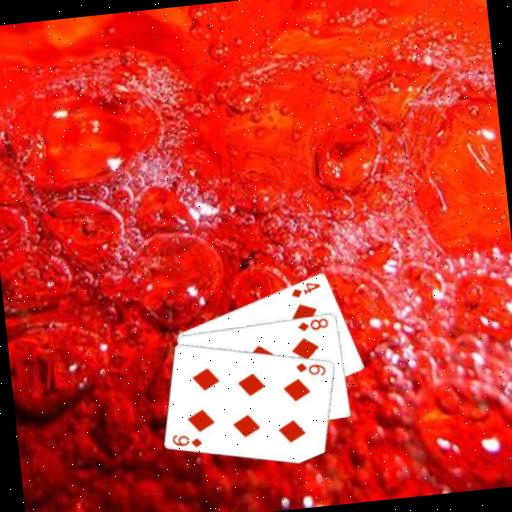4D: (287, 278, 323, 300)
6D: (293, 358, 328, 380), (169, 429, 204, 451)
8D: (294, 314, 330, 333)
